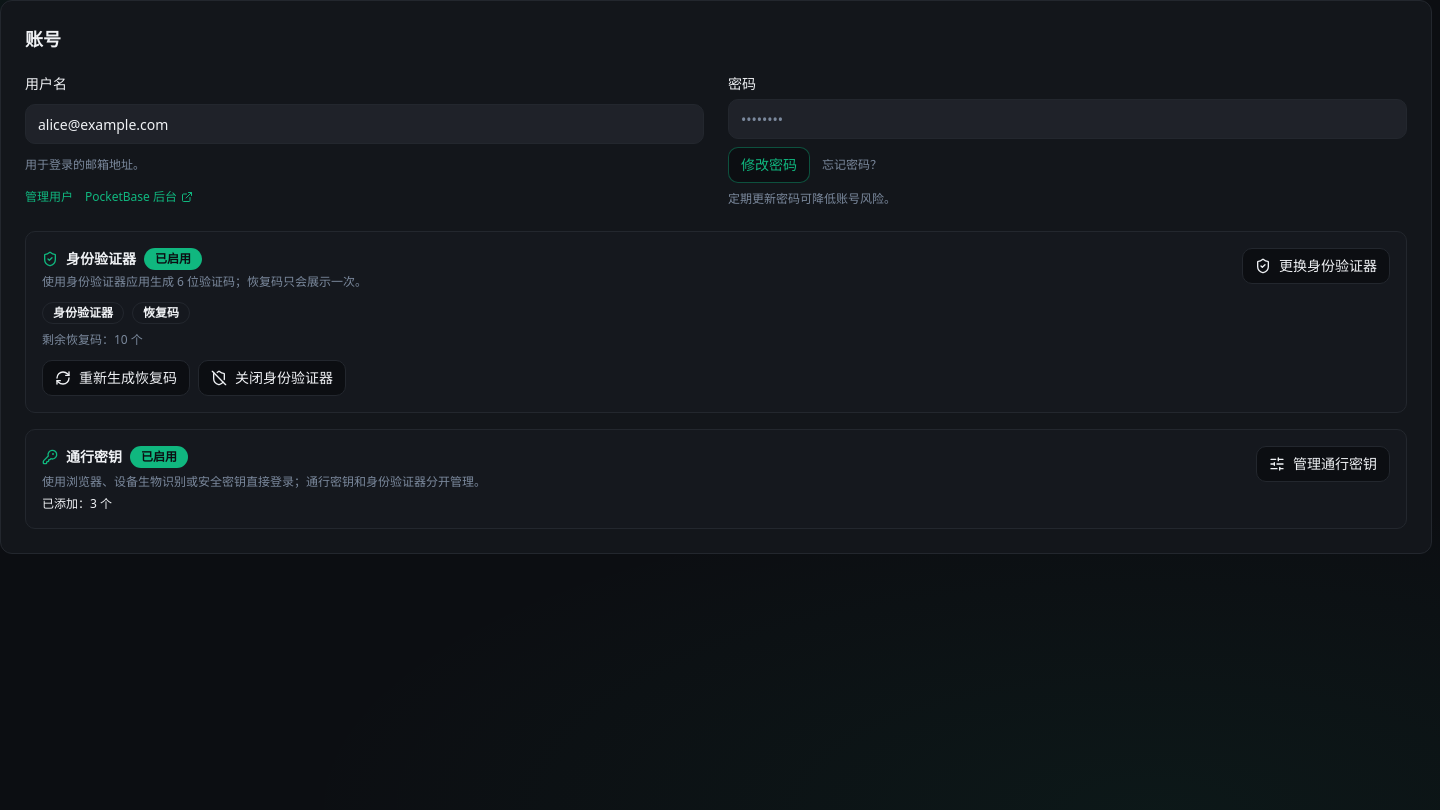
Scenario: AccountSettingsSection account security dialogs › keeps long passkey lists inside the manager dialog
Expected: the text "已添加：3 个" is shown, [42, 495, 112, 512]
Expected: the text "iPhone Face ID" is not shown
Click the button "管理通行密钥" at point(1323, 464), box [1256, 446, 1390, 482]
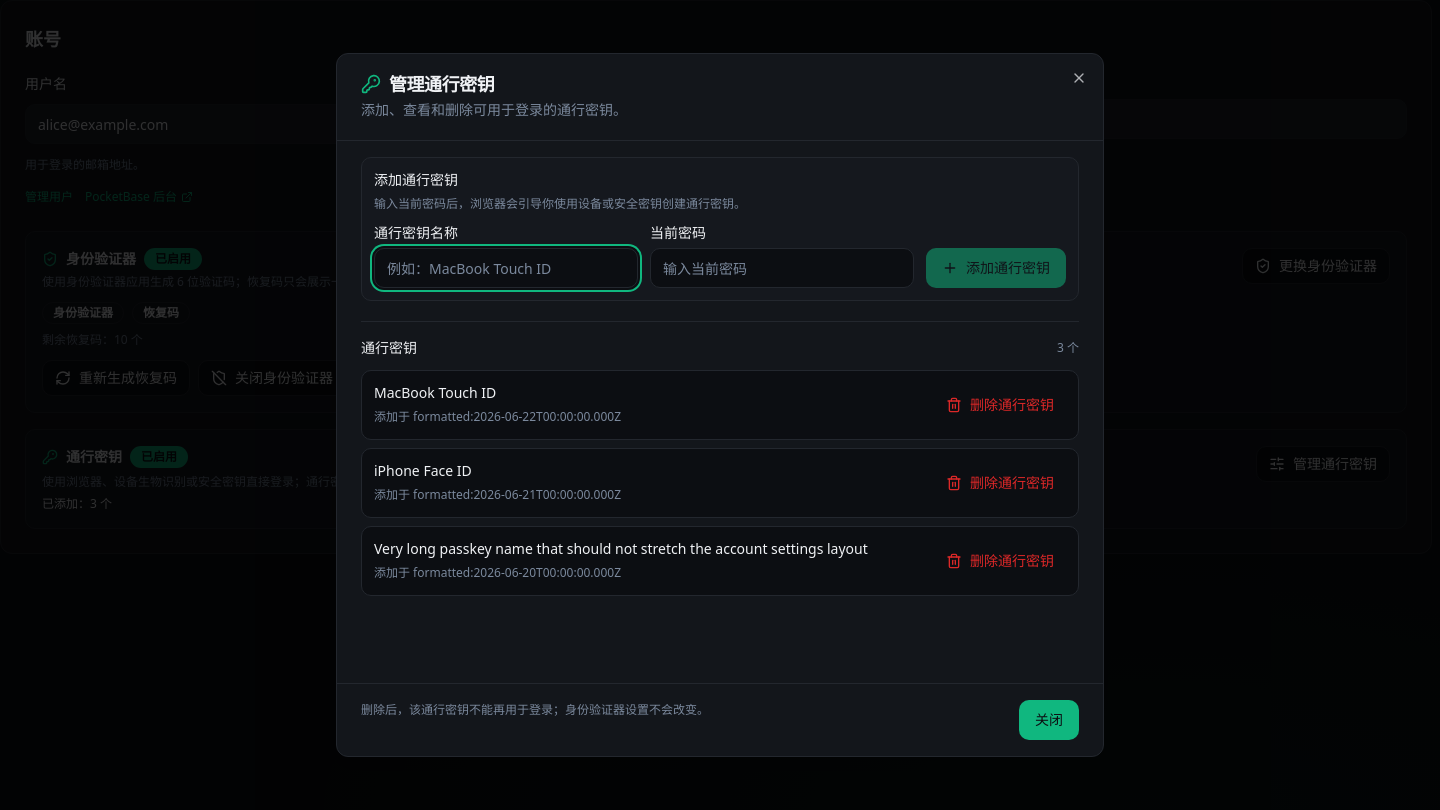
Expected: the text "iPhone Face ID" is shown, [374, 461, 472, 480]
